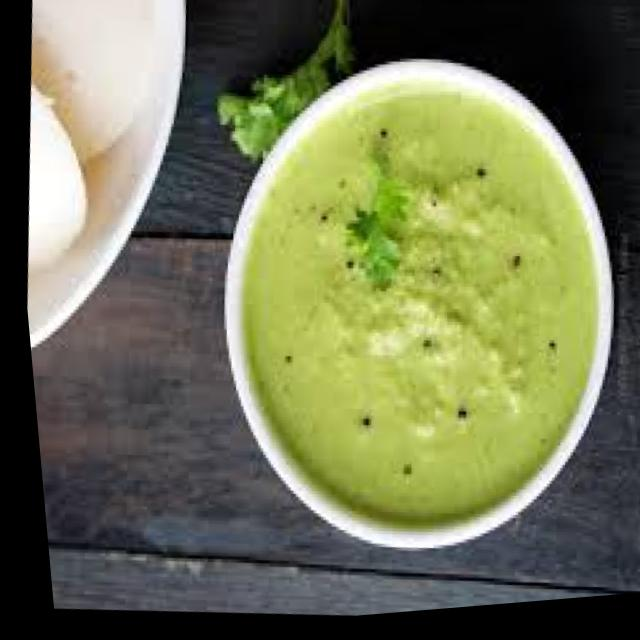GREEN CHUTNEY: (221, 61, 595, 560)
IDLI: (28, 0, 182, 342)
